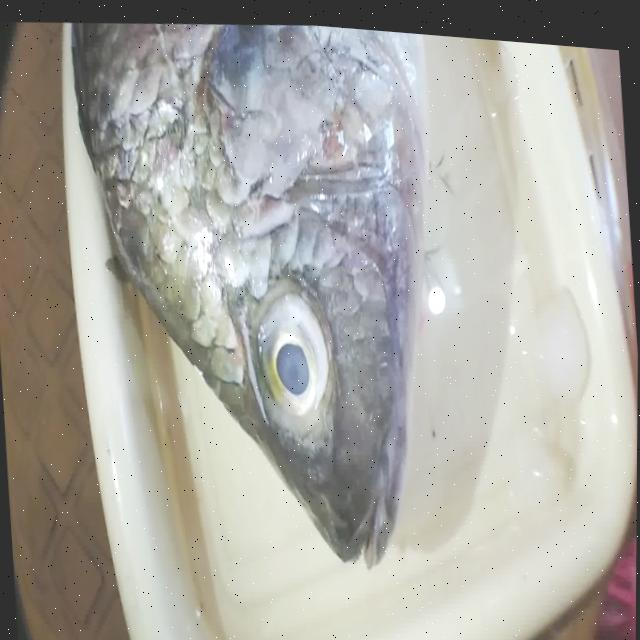Fresh: (237, 246, 340, 446)
